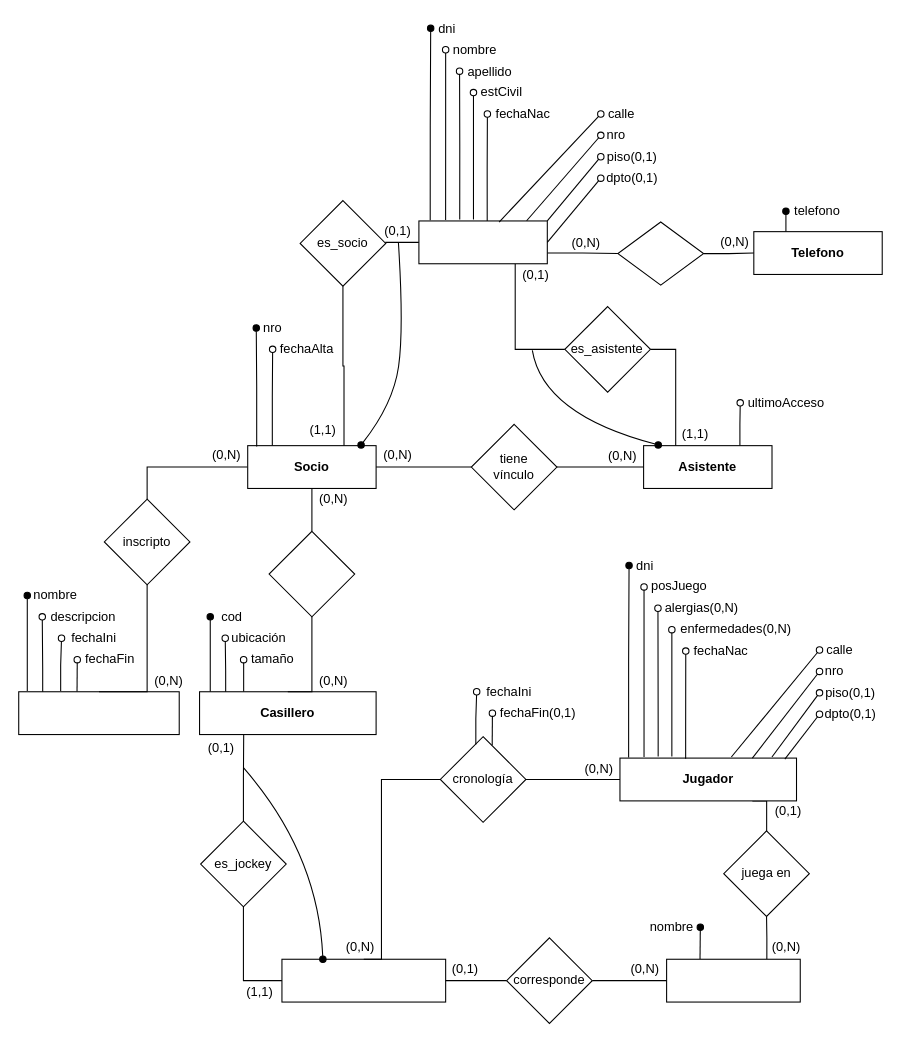
Image size: 901x1042. Some labels were removed from this diagram. Each missing label, with the centre of its shape:
"Actividad" goes at [98,713].
"CasilleroJockey" goes at [363,980].
"contacto" goes at [660,253].
"División" goes at [733,980].
"Persona" goes at [482,242].
"tiene acceso" goes at [311,573].
